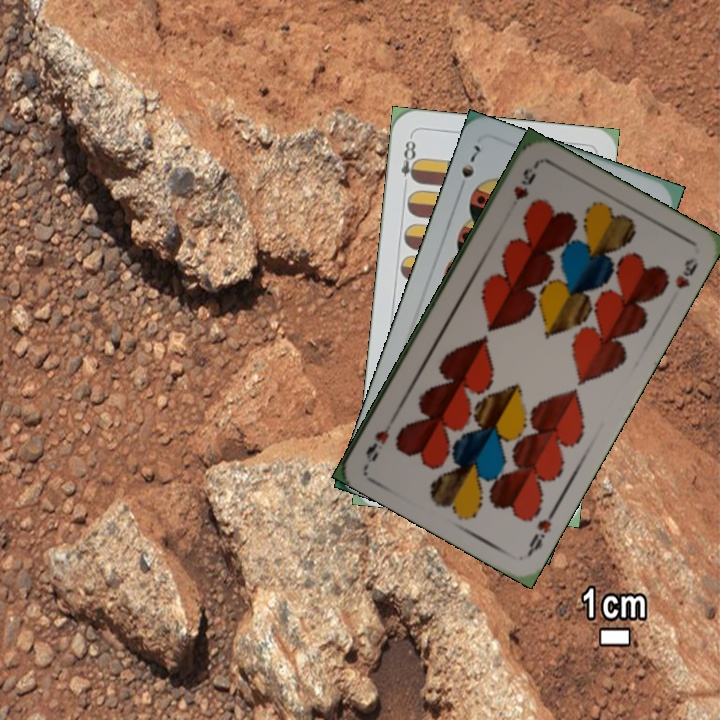E8: (397, 133, 421, 185)
H9: (523, 504, 560, 558), (509, 160, 541, 203)
S7: (454, 140, 483, 196)
